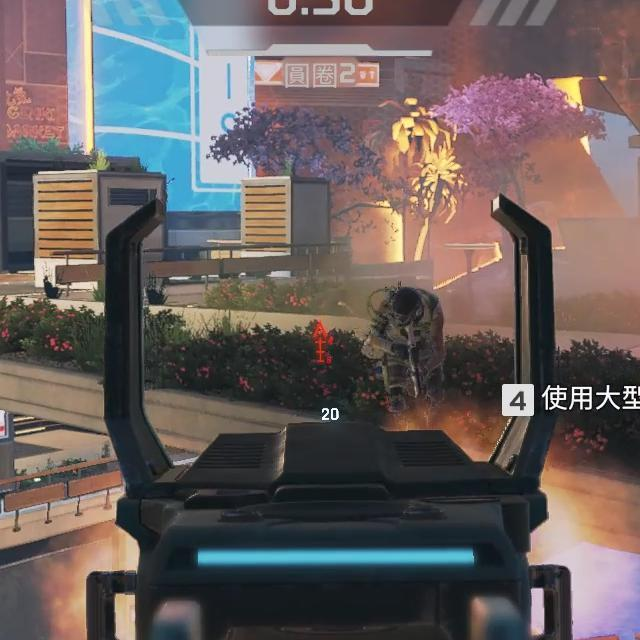avatar: (357, 284, 448, 418)
